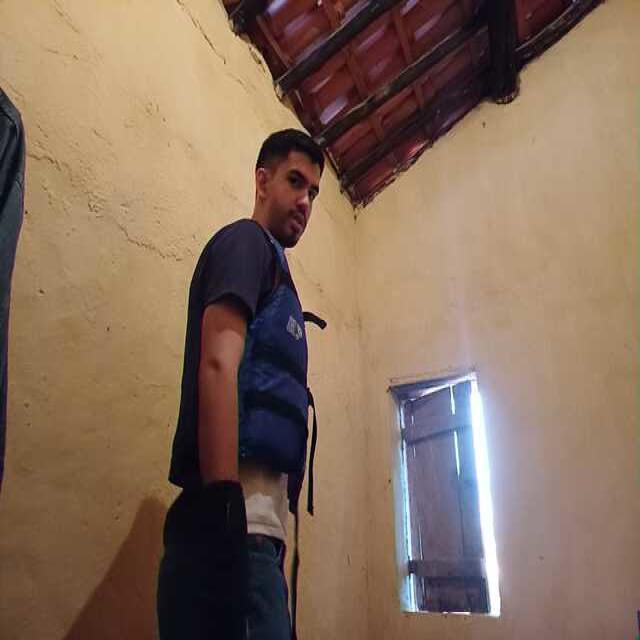colete: (171, 219, 314, 489)
pessoa: (176, 133, 328, 635)
